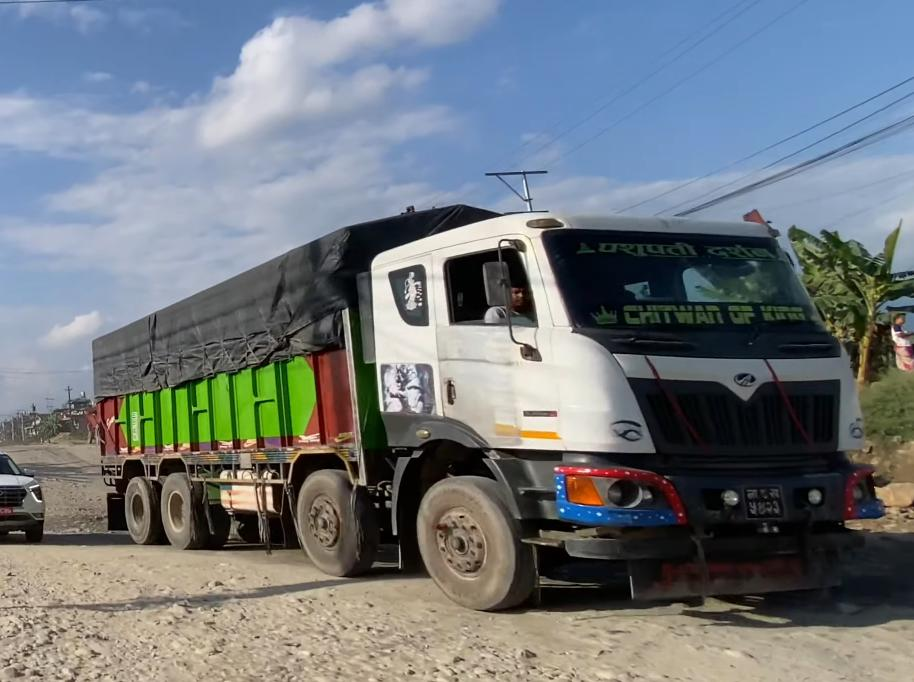car: (0, 451, 45, 542)
truck: (87, 198, 886, 612)
